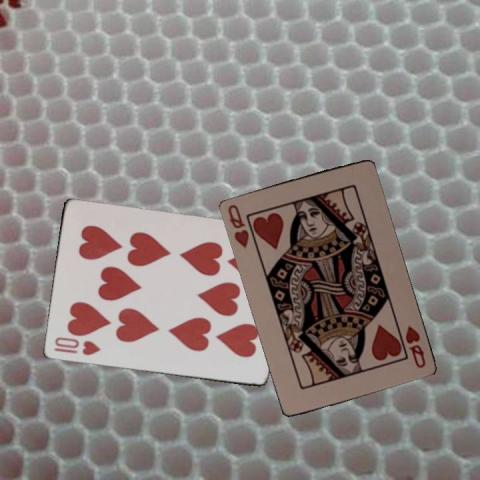10h: (51, 334, 101, 357)
Qh: (225, 201, 250, 250), (402, 322, 427, 369)
